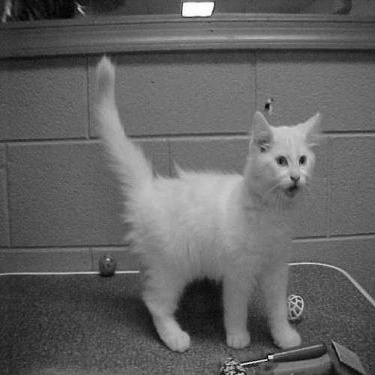cat: (90, 52, 320, 350)
